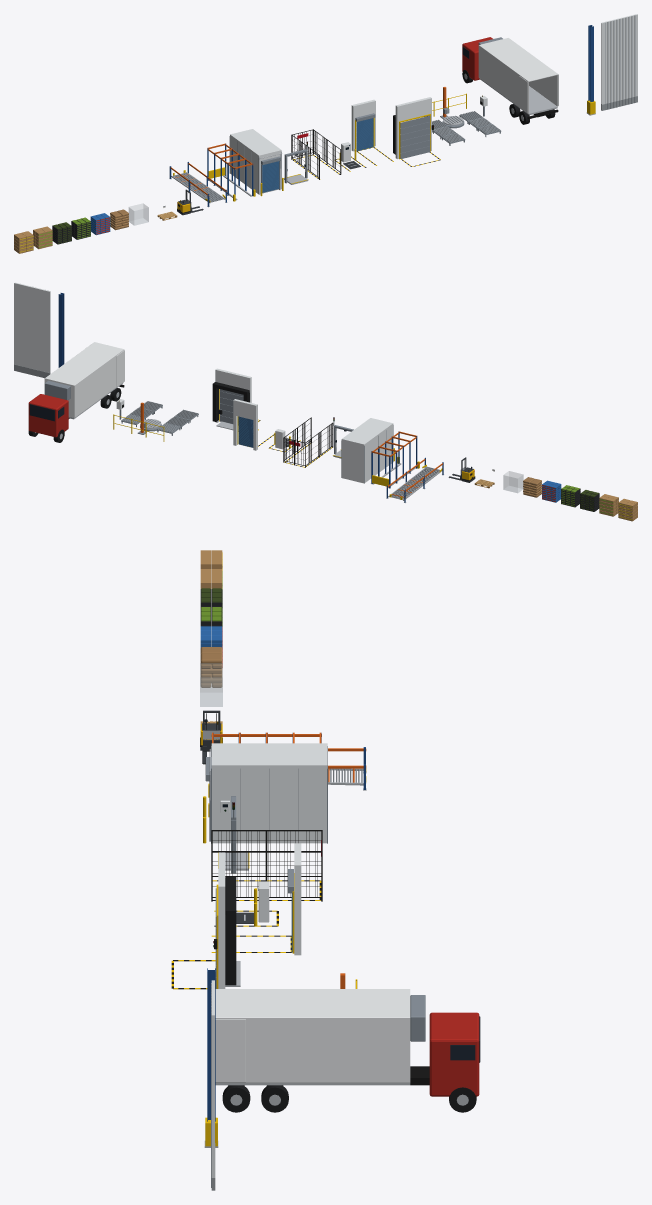
File: dc-kit.glb
3 views of the same model, one above another, from view 1: azimuth 30°, elevation 25°; view 2: azimuth 150°, elevation 25°; view 3: azimuth 270°, elevation 25° (orthographic). The views are drawn at different scales.
Parts seen in each view (by area): view 1: WallPanelSheet, TruckBody, WallPanelRibs, TruckRoof, DockOutShutterPanels, RoomWalls, DockOutWall, WrapperRollers, RoomRoof, QuarantineMesh, TruckCab, DriveInUprights (+12 smaller); view 2: WallPanelSheet, RoomWalls, TruckBody, TruckRoof, TruckCab, WrapperRollers, RoomRoof, DockInWall, QuarantineMesh, DriveInUprights, DockOutWall, FlowRollers (+10 smaller); view 3: TruckBody, RoomWalls, TruckRoof, TruckCab, RoomRoof, TruckDoorR, QuarantineMesh, TruckWheels, DockOutWall, LoadWrapFilm, Load_PotatoesSacks, DockInWall.
Part boxes in pixels (x1,y1,x2,y2): WallPanelSheet: (601,14,637,110); TruckBody: (478,45,558,113); WallPanelRibs: (605,15,635,109); TruckRoof: (478,38,557,81); DockOutShutterPanels: (400,115,430,158); RoomWalls: (230,136,281,194); DockOutWall: (395,97,431,159); WrapperRollers: (432,111,500,142); RoomRoof: (230,129,281,156); QuarantineMesh: (292,130,339,176); TruckCab: (462,37,492,80); DriveInUprights: (207,144,253,195); WallPanelSheet: (14,282,50,373); RoomWalls: (341,426,392,483); TruckBody: (44,350,123,417); TruckRoof: (45,342,123,385); TruckCab: (28,394,68,437); WrapperRollers: (121,401,198,432); RoomRoof: (341,418,393,445); DockInWall: (233,399,257,450); QuarantineMesh: (284,422,332,464); DriveInUprights: (371,431,417,488); DockOutWall: (215,368,251,422); FlowRollers: (389,466,439,499); TruckBody: (215,1018,410,1082); RoomWalls: (215,768,326,843); TruckRoof: (215,989,410,1018); TruckCab: (429,1012,479,1096); RoomRoof: (211,743,327,768); TruckDoorR: (215,1019,245,1082); QuarantineMesh: (213,831,320,896); TruckWheels: (222,1085,476,1112); DockOutWall: (218,852,225,988); LoadWrapFilm: (200,663,222,706); Load_PotatoesSacks: (200,647,222,687); DockInWall: (294,843,301,955).
Bounding box in the file's own units: 51.89 × 7.01 × 11.17.
